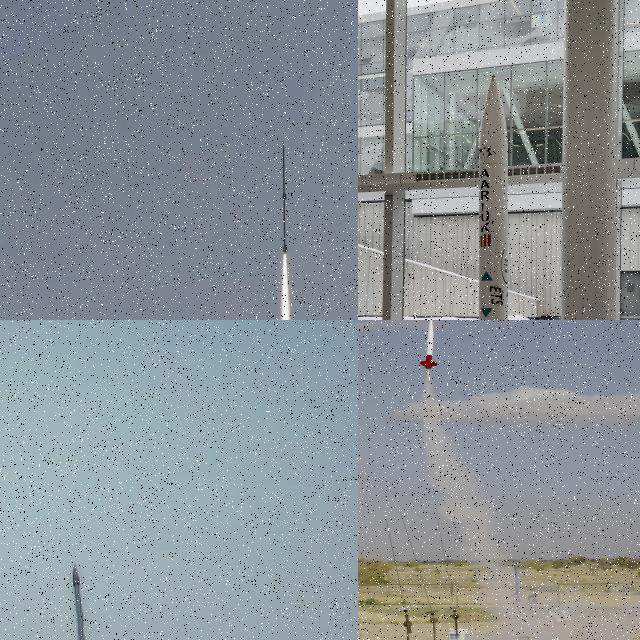Rocket: (479, 74, 508, 320), (68, 563, 94, 640), (419, 320, 438, 370), (282, 140, 288, 254)
